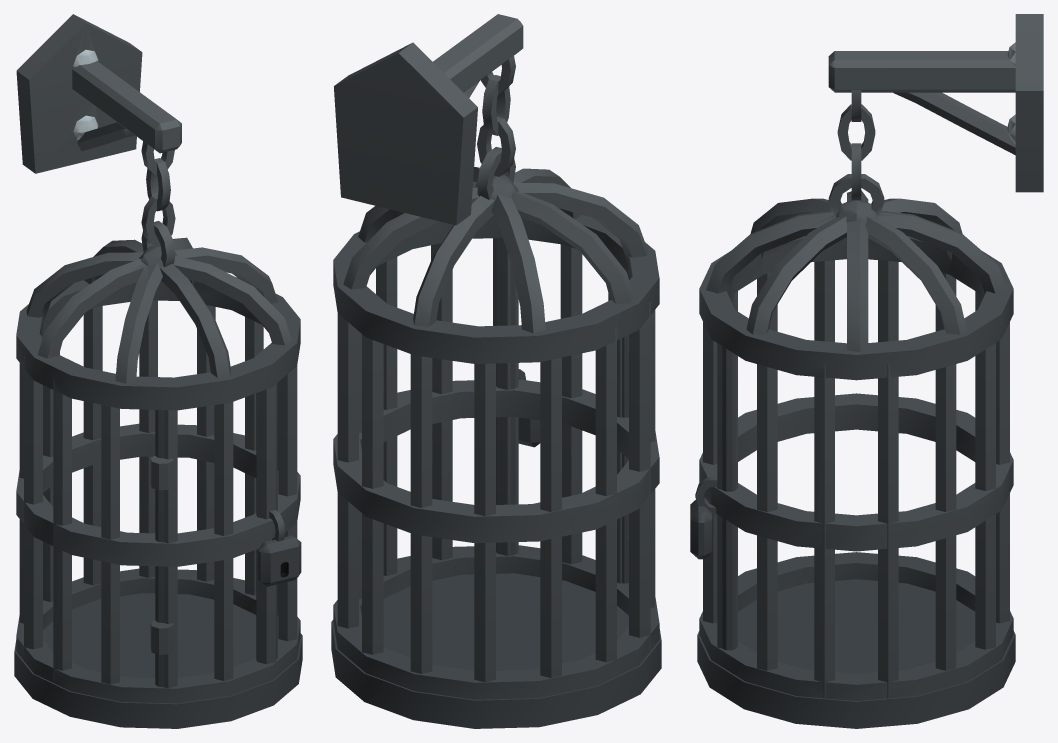
Rendered from hanging_cage.glb.
3 renders of one model, left to right at view 1: azimuth 30°, elevation 25°; view 2: azimuth 150°, elevation 25°; view 3: azimuth 270°, elevation 25°, orthographic. The views are drawn at different scales.
Parts seen in each view (by area): view 1: hanging_cage; view 2: hanging_cage; view 3: hanging_cage.
Part boxes in pixels (bbox=[...]): hanging_cage: bbox=[14, 14, 302, 728]; hanging_cage: bbox=[331, 14, 661, 728]; hanging_cage: bbox=[690, 14, 1043, 728].
Bounding box in the file's own units: 1.6 × 3.59 × 1.77.
1 material, 1 textured.
